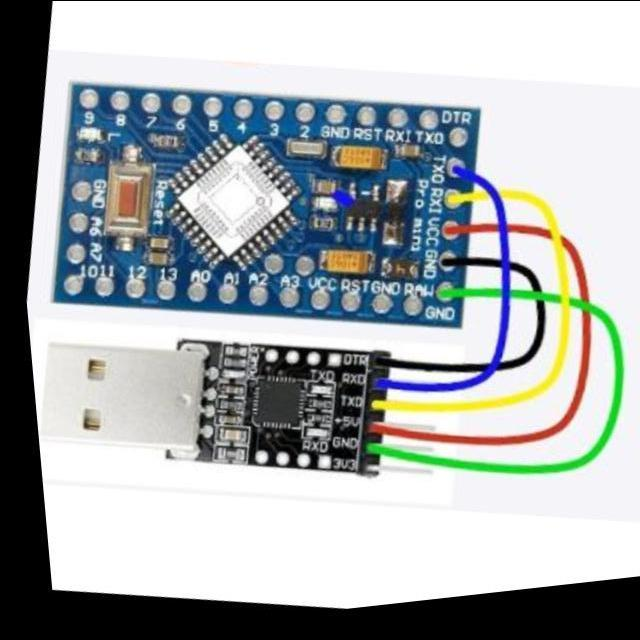Arduino-ProMini: (55, 84, 479, 327)
